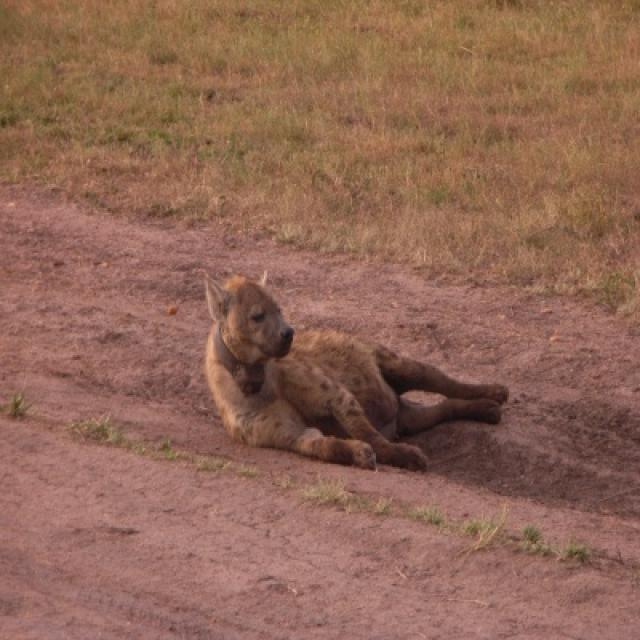hyena: (205, 277, 507, 469)
